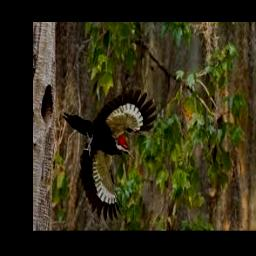Woodpecker: (63, 87, 160, 218)
